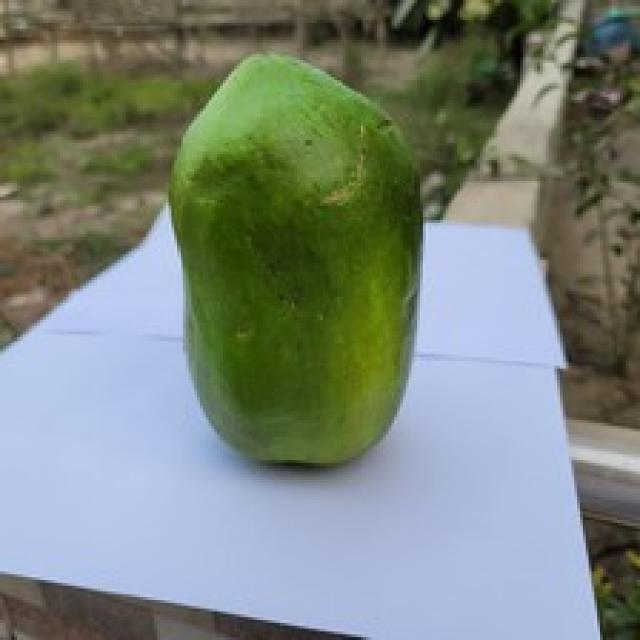Pepaya unrippen: (162, 49, 449, 491)
